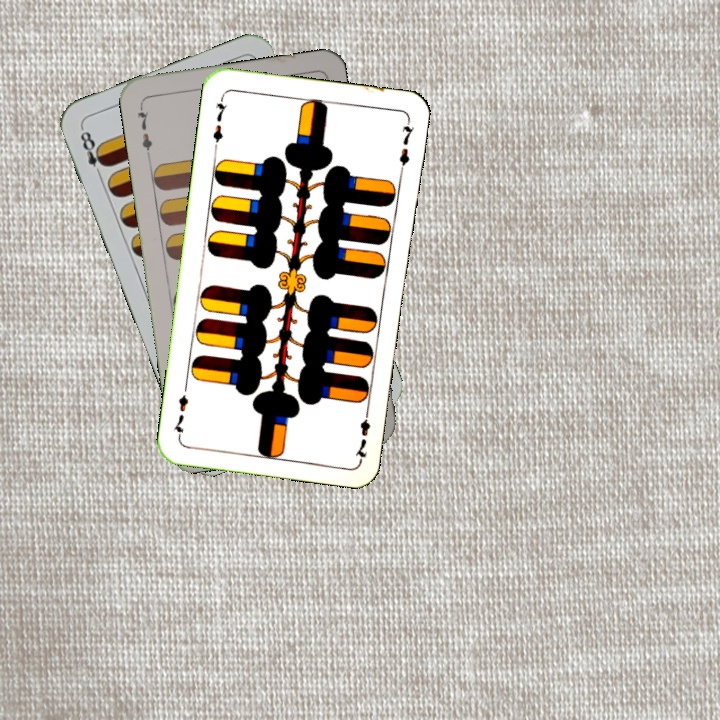E7: (133, 101, 155, 160), (208, 92, 230, 151), (351, 403, 373, 462)
E8: (76, 124, 110, 181)
